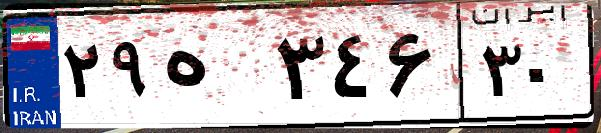0: (525, 38, 570, 115)
2: (57, 26, 110, 100)
3: (270, 28, 330, 110), (475, 38, 525, 113)
4: (330, 28, 385, 110)
6: (385, 28, 445, 110)
9: (110, 28, 158, 98)
ه: (158, 20, 270, 120)
